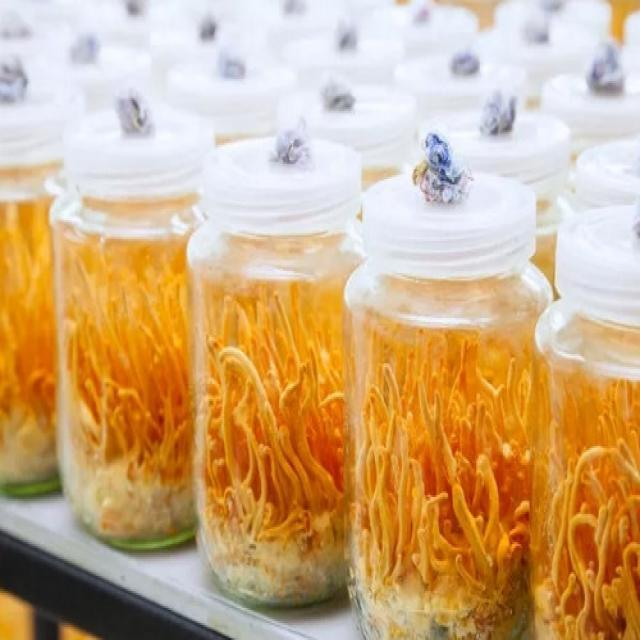Cordyceps militaris: (348, 323, 529, 614), (201, 289, 344, 552), (66, 248, 188, 489), (538, 358, 640, 634), (0, 213, 50, 433)
